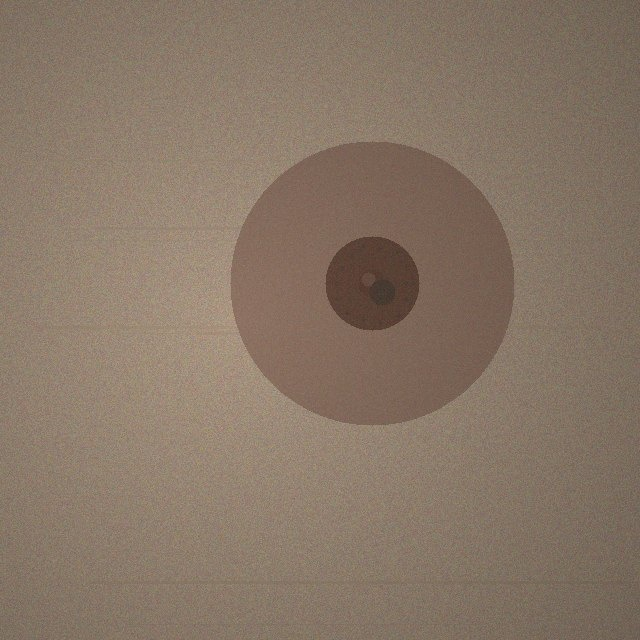cold_weld: (230, 141, 514, 425)
